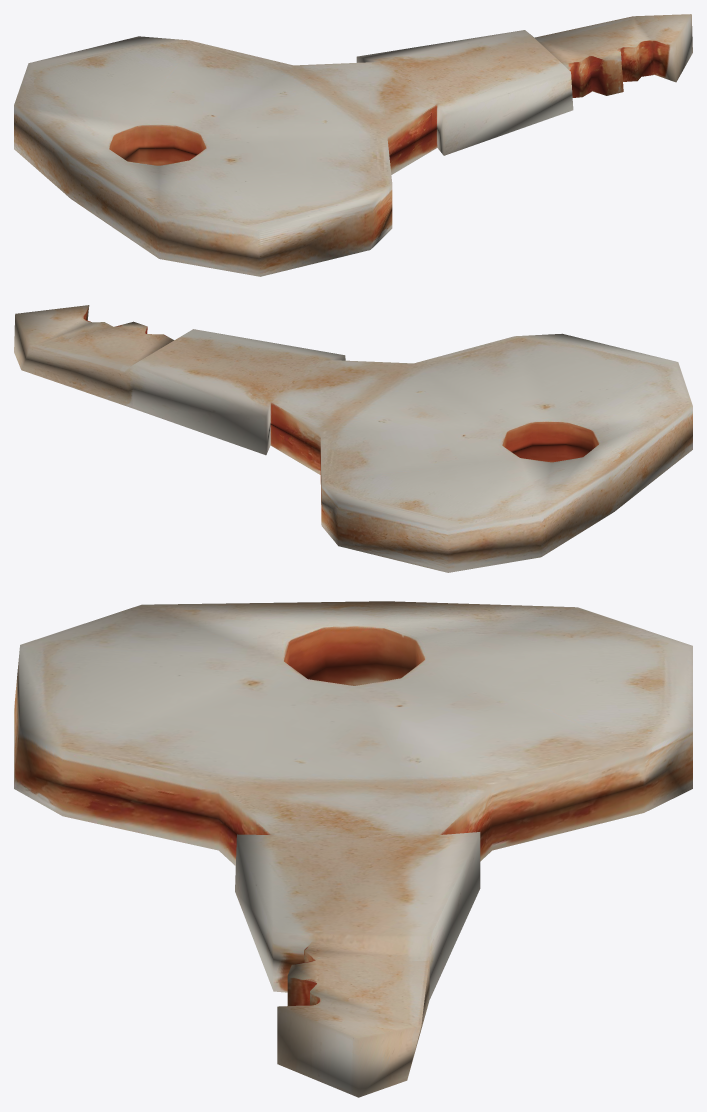
The model's file is Prop_Key03_Broken.glb.
3 views of the same model, one above another, from view 1: azimuth 30°, elevation 25°; view 2: azimuth 150°, elevation 25°; view 3: azimuth 270°, elevation 25° (orthographic). The views are drawn at different scales.
Parts seen in each view (by area): view 1: tripo_node_9af3c9a4-9465-49b8-8952-9cda2bd25fa7; view 2: tripo_node_9af3c9a4-9465-49b8-8952-9cda2bd25fa7; view 3: tripo_node_9af3c9a4-9465-49b8-8952-9cda2bd25fa7.
Part boxes in pixels (<box>): tripo_node_9af3c9a4-9465-49b8-8952-9cda2bd25fa7: <box>14,14,692,276</box>; tripo_node_9af3c9a4-9465-49b8-8952-9cda2bd25fa7: <box>14,305,692,572</box>; tripo_node_9af3c9a4-9465-49b8-8952-9cda2bd25fa7: <box>14,601,692,1097</box>.
Bounding box in the file's own units: 2.19 × 0.15 × 1.44.
Materials: 1 (1 with a texture image).
